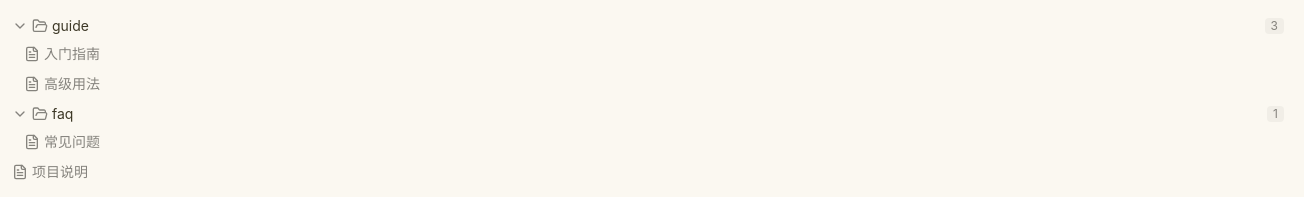
Test: FileTree › re-expands directory when clicked again
Click the button "guide 3".
click(70, 26)  # box [12,12,1292,40]
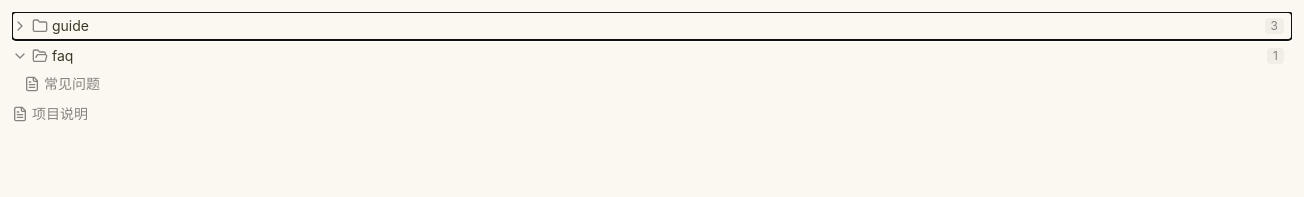
Now the link "入门指南" is gone
// Expand again
Click the button "guide 3".
click(70, 26)  # box [12,12,1292,40]
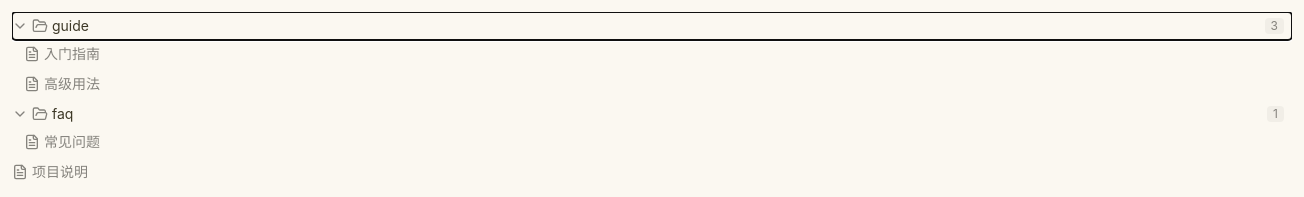
Now the text "入门指南" is shown, box [44,44,100,64]
